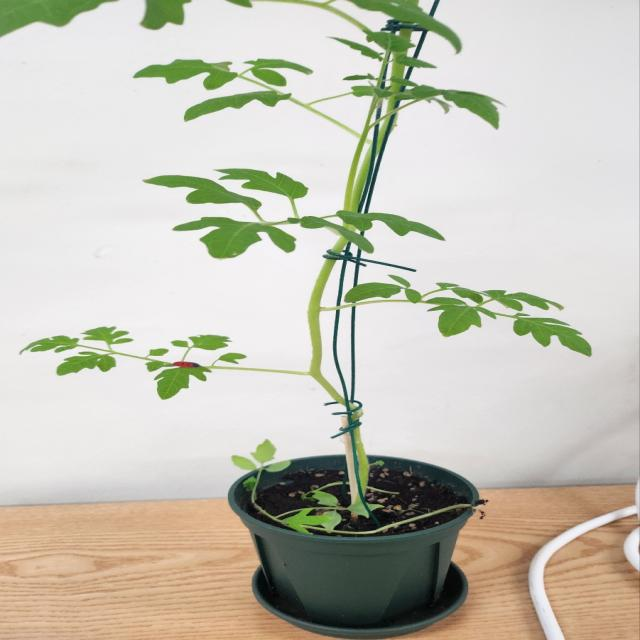bug: (143, 350, 214, 376)
